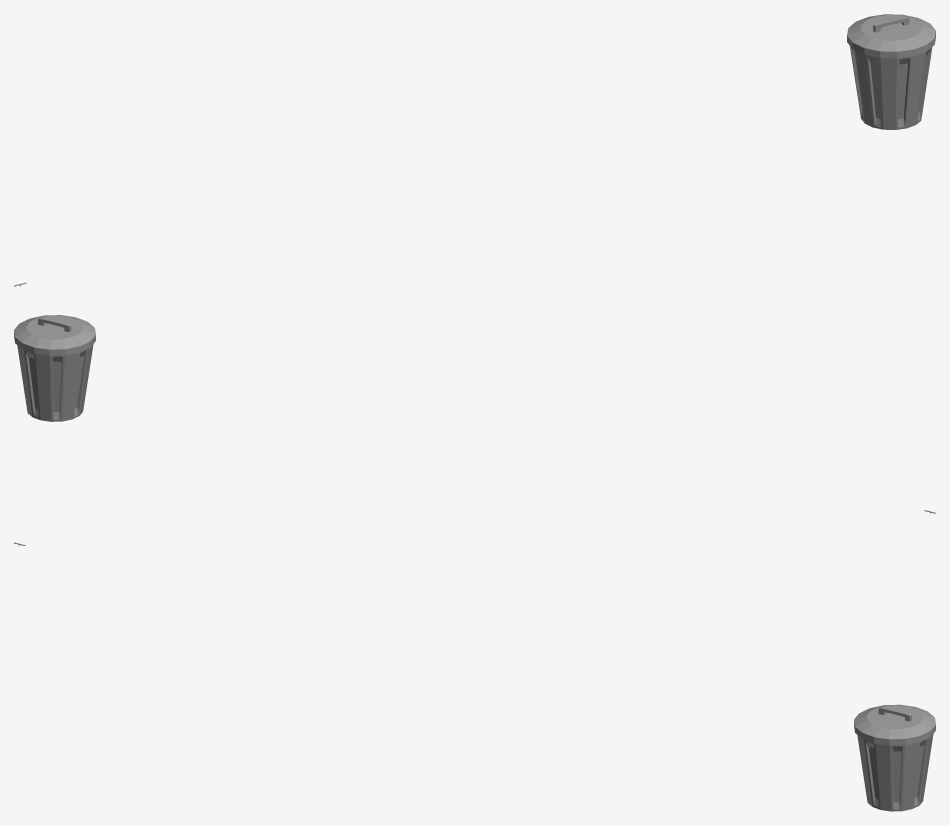
Rendered from buildig.002_metal_(scratched)_0.001_lev3.glb.
3 renders of one model, top to bottom at view 1: azimuth 30°, elevation 25°; view 2: azimuth 150°, elevation 25°; view 3: azimuth 330°, elevation 25°, orthographic. The views are drawn at different scales.
Visible parts, largest first — view 1: buildig.002_metal_(scratched)_0.001_lev3; view 2: buildig.002_metal_(scratched)_0.001_lev3; view 3: buildig.002_metal_(scratched)_0.001_lev3.
Part boxes in pixels (x1,y1,x2,y2): buildig.002_metal_(scratched)_0.001_lev3: (14,14,935,286); buildig.002_metal_(scratched)_0.001_lev3: (14,315,935,513); buildig.002_metal_(scratched)_0.001_lev3: (14,542,935,811).
Size of the model in its own units: 3.92 by 0.3776 by 0.4377.
Materials: 1 (1 with a texture image).
